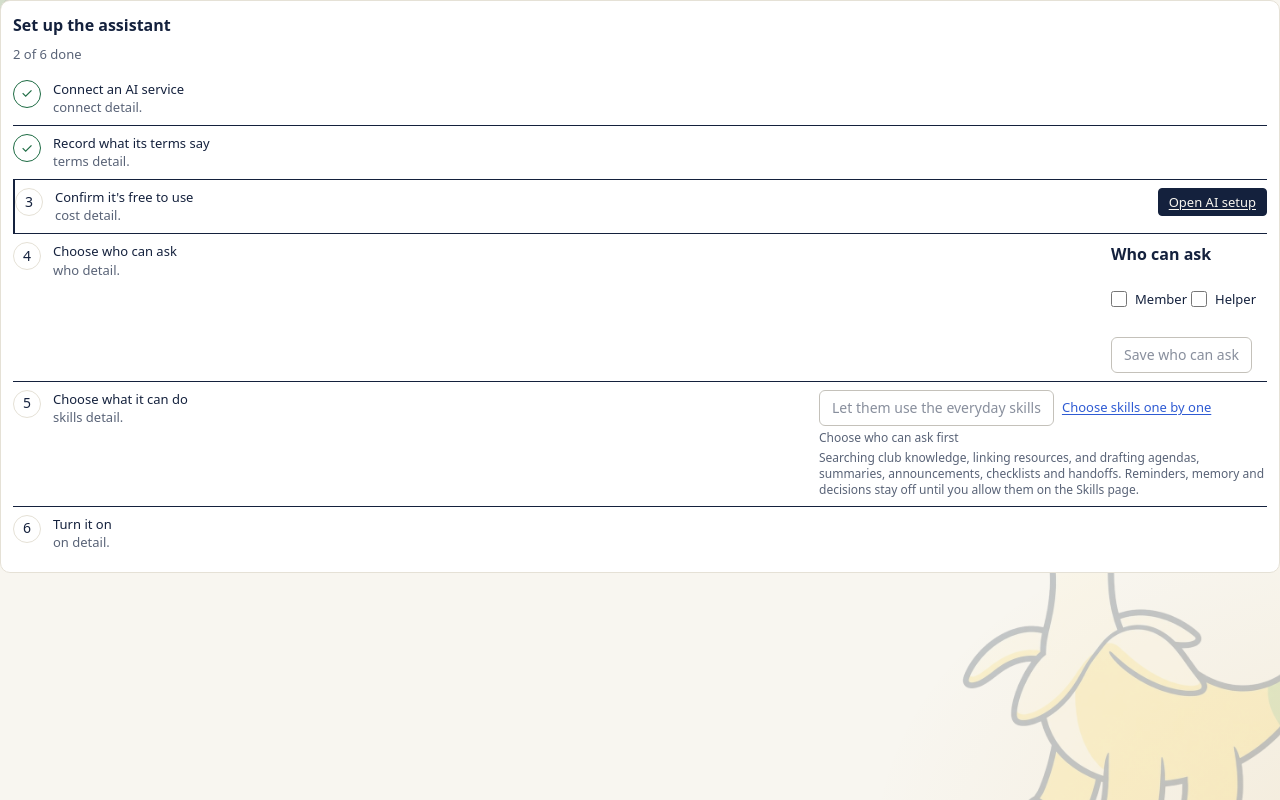
Test case: who-can-ask discard focus (d3 L14) › Discard lands focus on the draft field, not body
The width and height of the screenshot is (1280, 800).
Click the checkbox labelled "Member": point(1119, 299) [1111,291,1127,307]
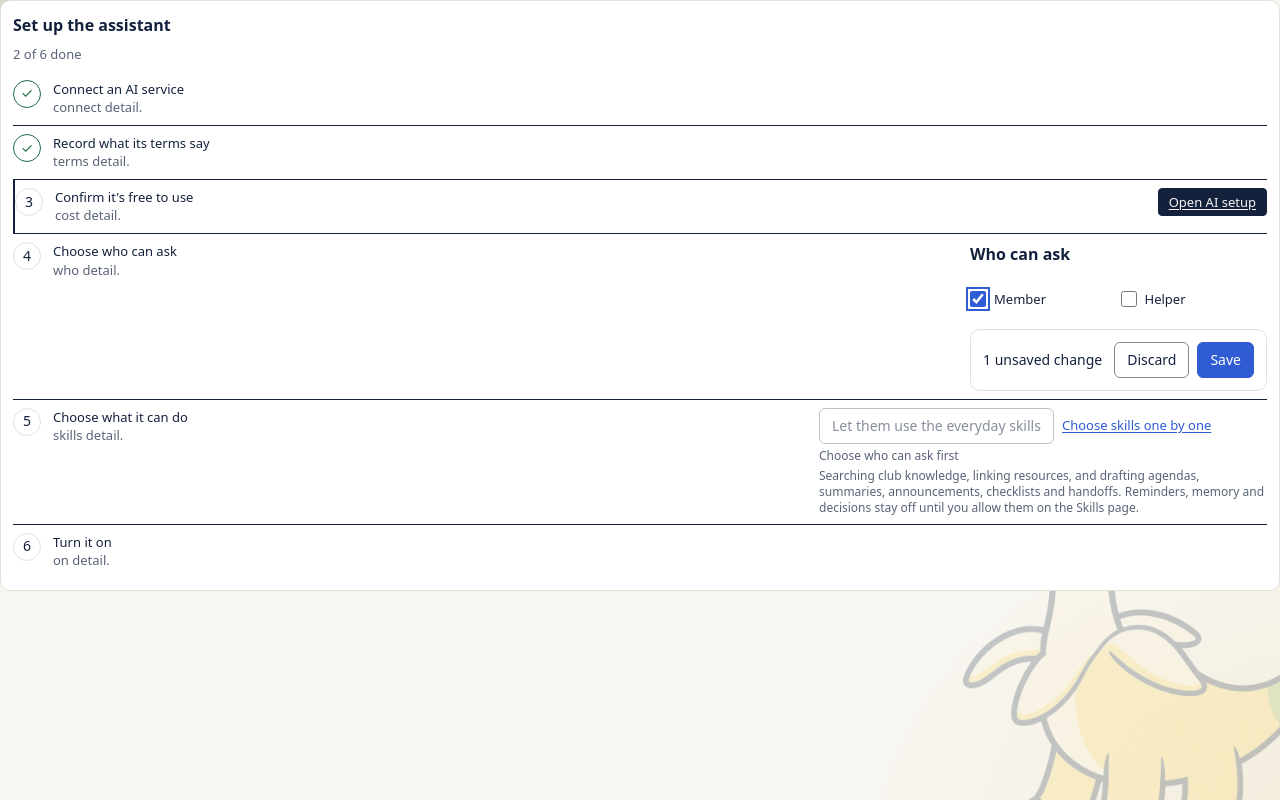
Click the button "Discard": point(1152, 360) [1114,342,1189,378]
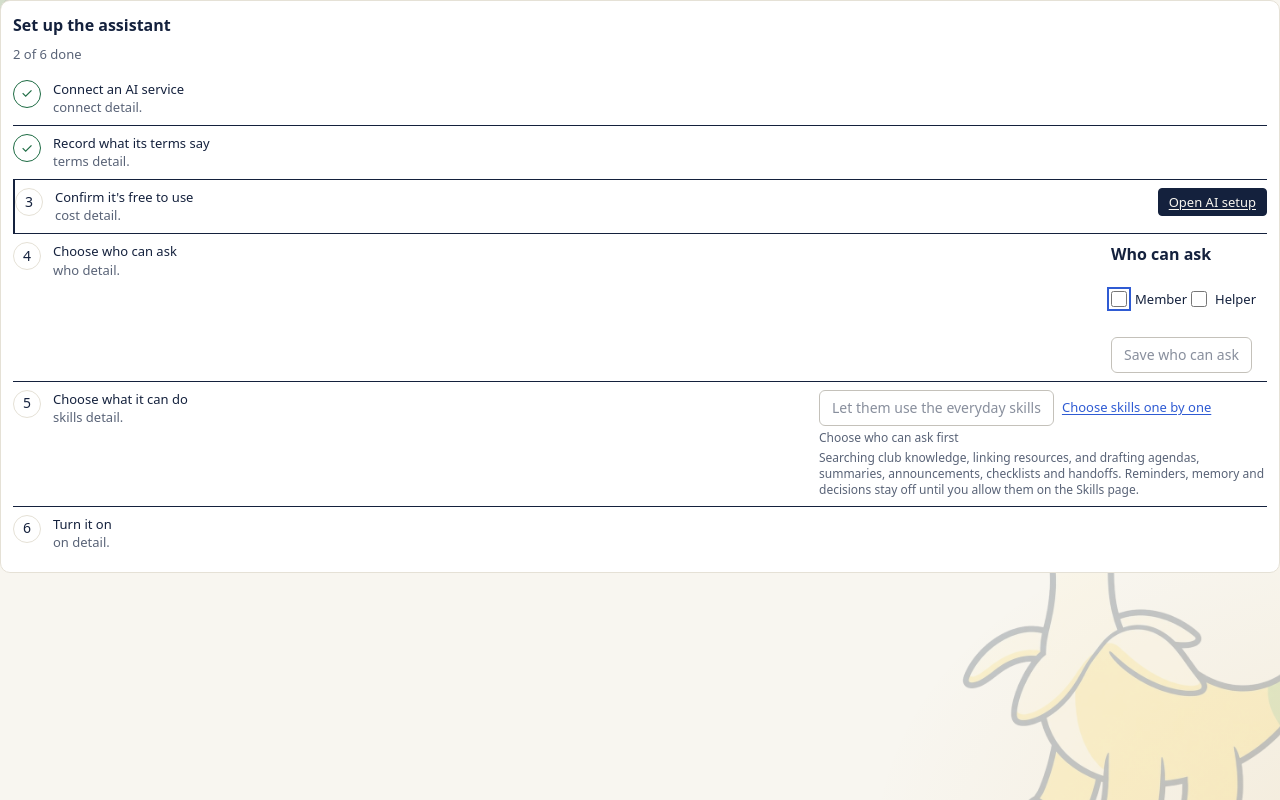
Expected: the button "Discard" is gone
